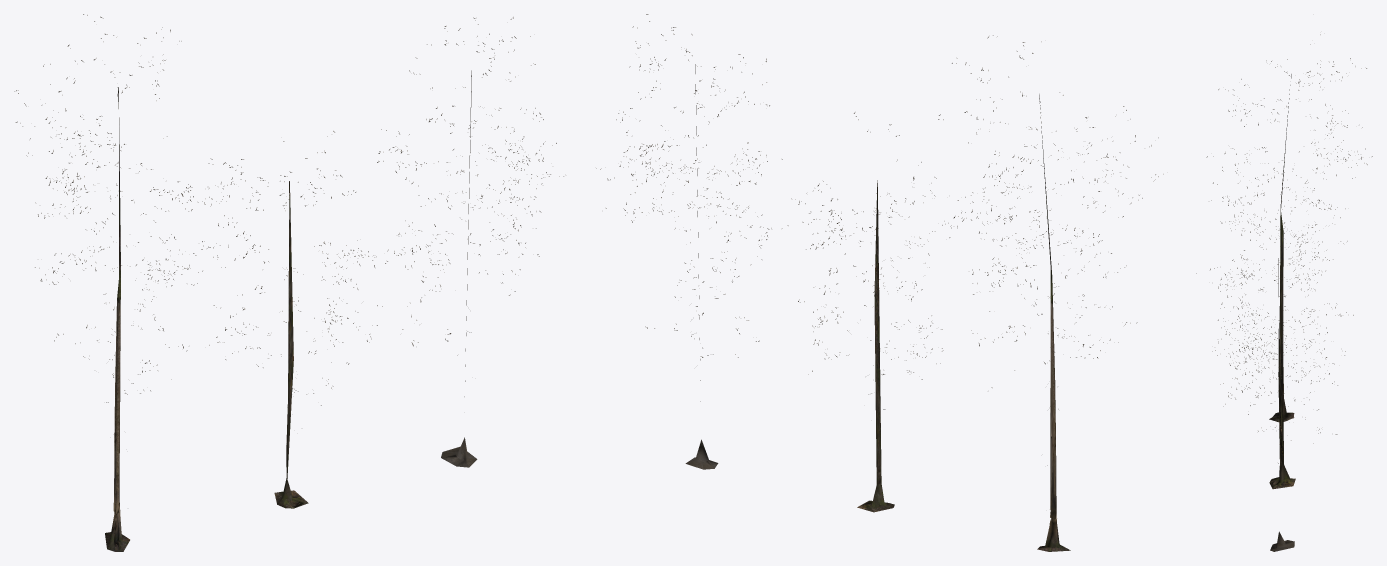
The model's file is pine_tree_01.glb.
The picture shows the model from 3 angles, left to right: view 1: azimuth 30°, elevation 25°; view 2: azimuth 150°, elevation 25°; view 3: azimuth 270°, elevation 25°; orthographic projection. The views are drawn at different scales.
Visible parts, largest first — view 1: pine_tree_01_a_LOD0, pine_tree_01_b_LOD0, pine_tree_01_c_LOD0; view 2: pine_tree_01_a_LOD0, pine_tree_01_b_LOD0; view 3: pine_tree_01_a_LOD0, pine_tree_01_b_LOD0, pine_tree_01_c_LOD0.
Part boxes in pixels (bbox=[...]): pine_tree_01_a_LOD0: bbox=[14, 14, 563, 551]; pine_tree_01_b_LOD0: bbox=[274, 181, 308, 508]; pine_tree_01_c_LOD0: bbox=[441, 70, 477, 467]; pine_tree_01_a_LOD0: bbox=[596, 14, 1163, 551]; pine_tree_01_b_LOD0: bbox=[857, 180, 894, 512]; pine_tree_01_a_LOD0: bbox=[1196, 34, 1372, 477]; pine_tree_01_b_LOD0: bbox=[1269, 236, 1295, 489]; pine_tree_01_c_LOD0: bbox=[1270, 258, 1294, 551].
Bounding box in the file's own units: 21.17 × 20.17 × 8.02.
5 materials, 5 textured.
